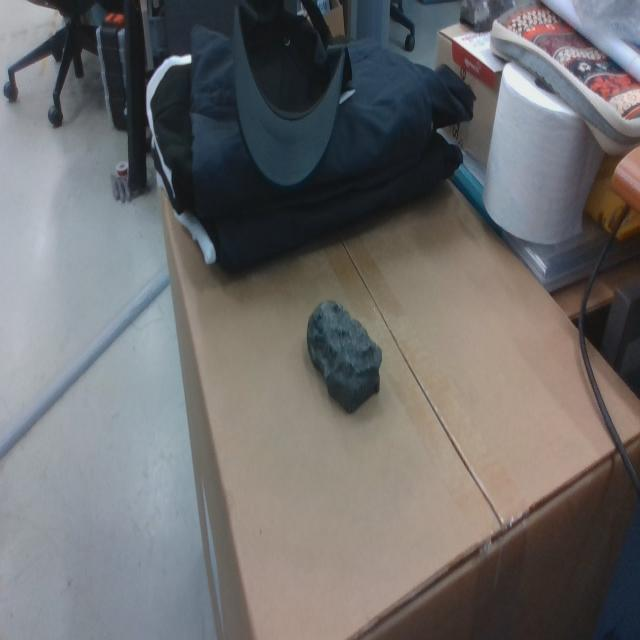stone: (306, 298, 383, 417)
